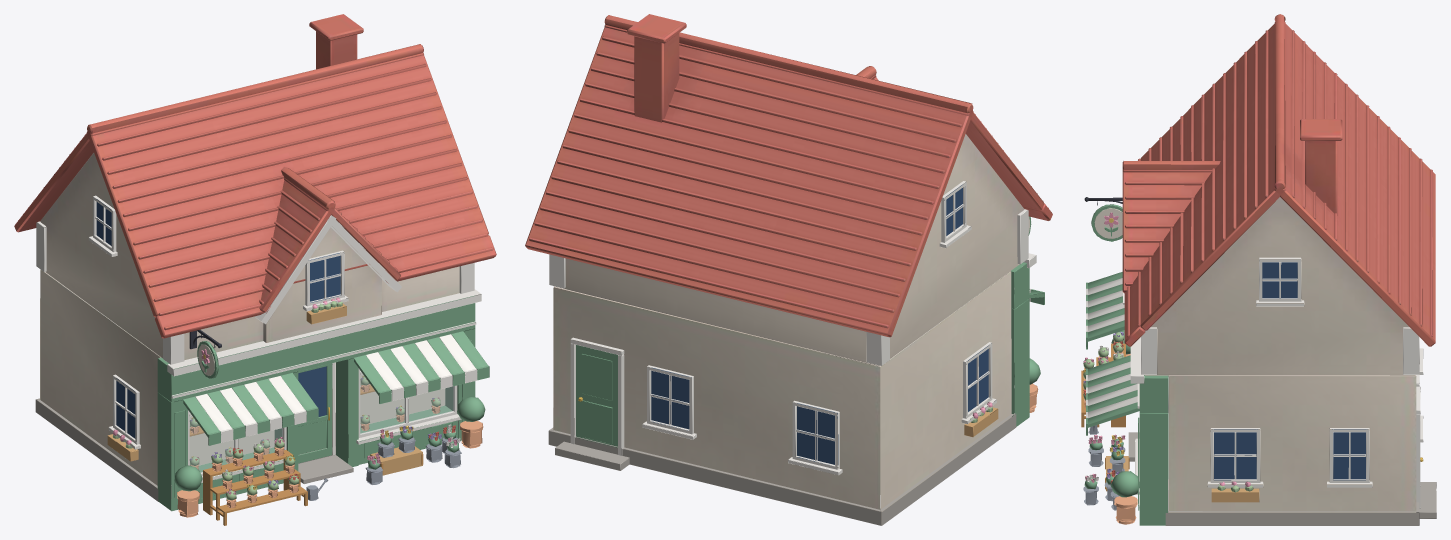
File: flower-shop.glb
3 renders of one model, left to right at view 1: azimuth 30°, elevation 25°; view 2: azimuth 150°, elevation 25°; view 3: azimuth 270°, elevation 25°, orthographic. The views are drawn at different scales.
Parts seen in each view (by area): view 1: flower-shop_body, flower-shop_details, flower-shop_flower_display, flower-shop_shop_glass, flower-shop_plants, flower-shop_door; view 2: flower-shop_body, flower-shop_details; view 3: flower-shop_body, flower-shop_details, flower-shop_flower_display, flower-shop_plants.
Part boxes in pixels (box(x1,y1,x2,y2)): flower-shop_body: box(14, 14, 496, 488); flower-shop_details: box(35, 195, 489, 511); flower-shop_flower_display: box(177, 376, 483, 525); flower-shop_shop_glass: box(190, 374, 453, 472); flower-shop_plants: box(174, 376, 485, 500); flower-shop_door: box(298, 363, 332, 463); flower-shop_body: box(525, 14, 1052, 522); flower-shop_details: box(548, 181, 1044, 525); flower-shop_body: box(1122, 14, 1435, 512); flower-shop_details: box(1084, 197, 1436, 525); flower-shop_flower_display: box(1081, 332, 1137, 524); flower-shop_plants: box(1083, 330, 1139, 497).
Bounding box in the file's own units: 8 × 8.27 × 7.15.
Materials: 23 (1 with a texture image).
